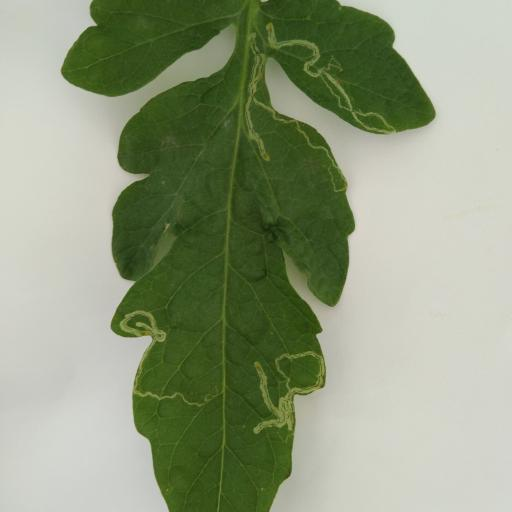Leaf Miner: (107, 76, 359, 512), (266, 0, 442, 136)
